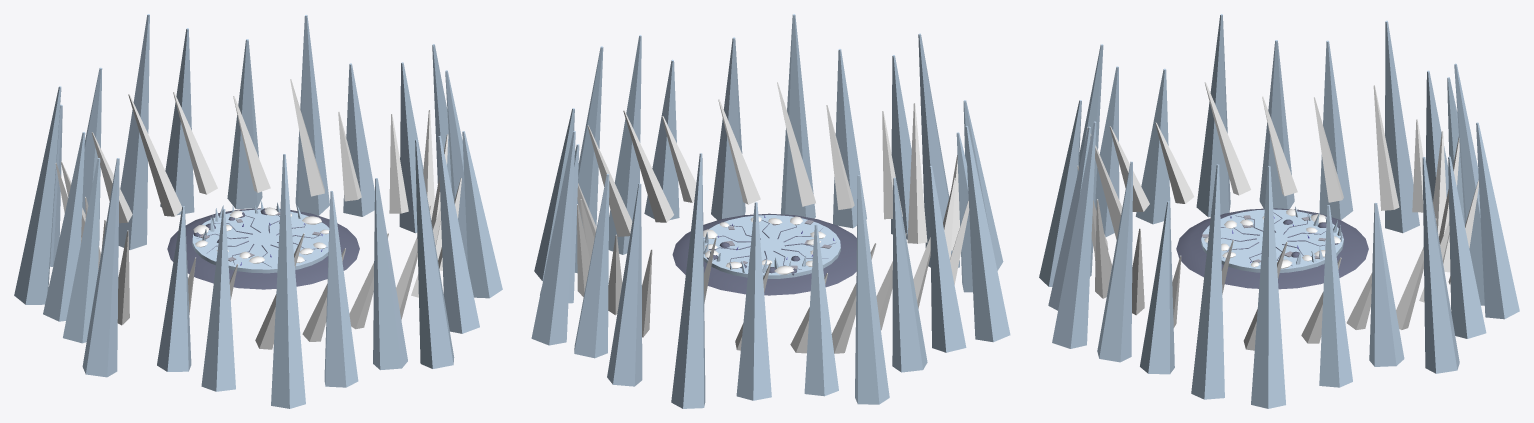
The model's file is frost_sentinel.glb.
3 renders of one model, left to right at view 1: azimuth 30°, elevation 25°; view 2: azimuth 150°, elevation 25°; view 3: azimuth 270°, elevation 25°, orthographic.
Visible parts, largest first — view 1: FrostSentinelGround; view 2: FrostSentinelGround; view 3: FrostSentinelGround.
Boxes of the visible parts, x1,y1,x2,y2 form: FrostSentinelGround: (14,14,502,408); FrostSentinelGround: (531,14,1010,408); FrostSentinelGround: (1039,14,1519,408).
Size of the model in its own units: 40.64 by 22.11 by 40.43.
1 material, 1 textured.
